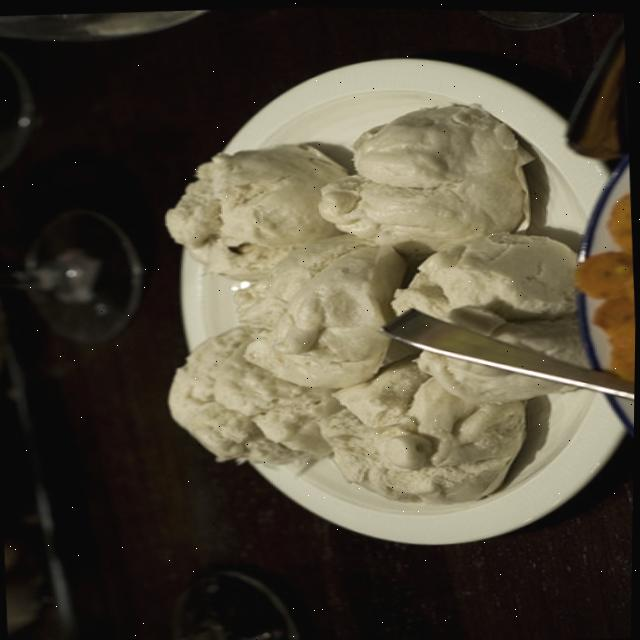带馅早点: (135, 40, 640, 561)
